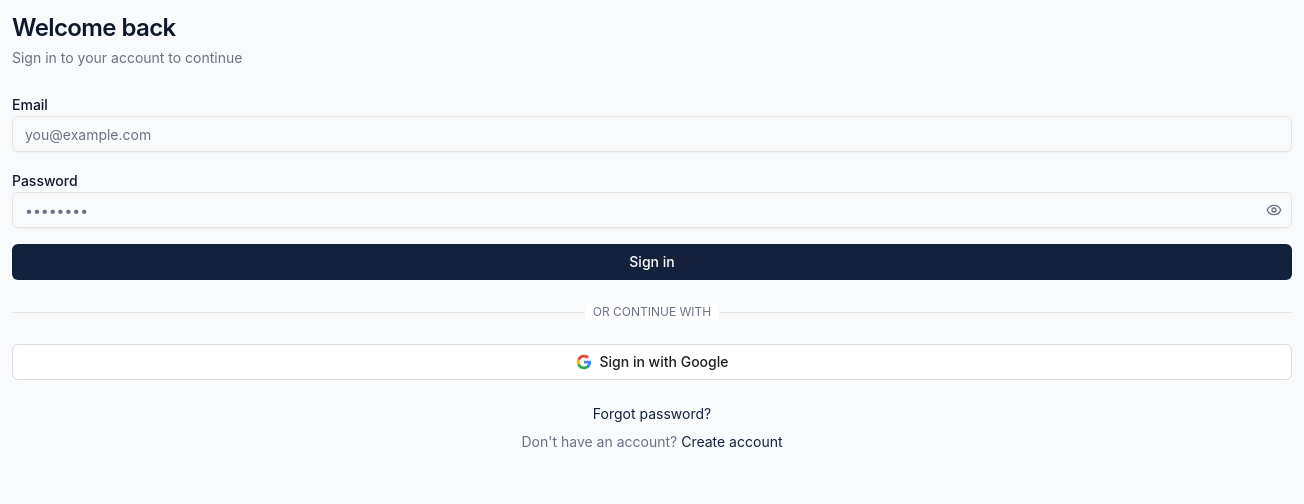
Test: LoginForm › shows validation error when email is empty
Click the button "Sign in" at [652, 262], box [12,244,1292,280]
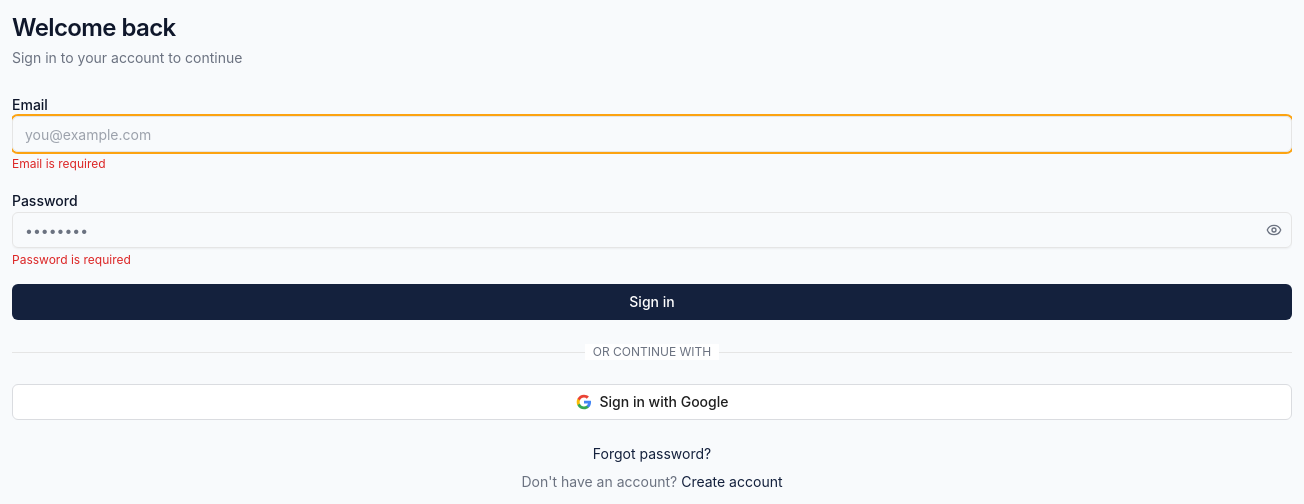
Check: the message "Email is required" is shown, box [12,156,106,171]
